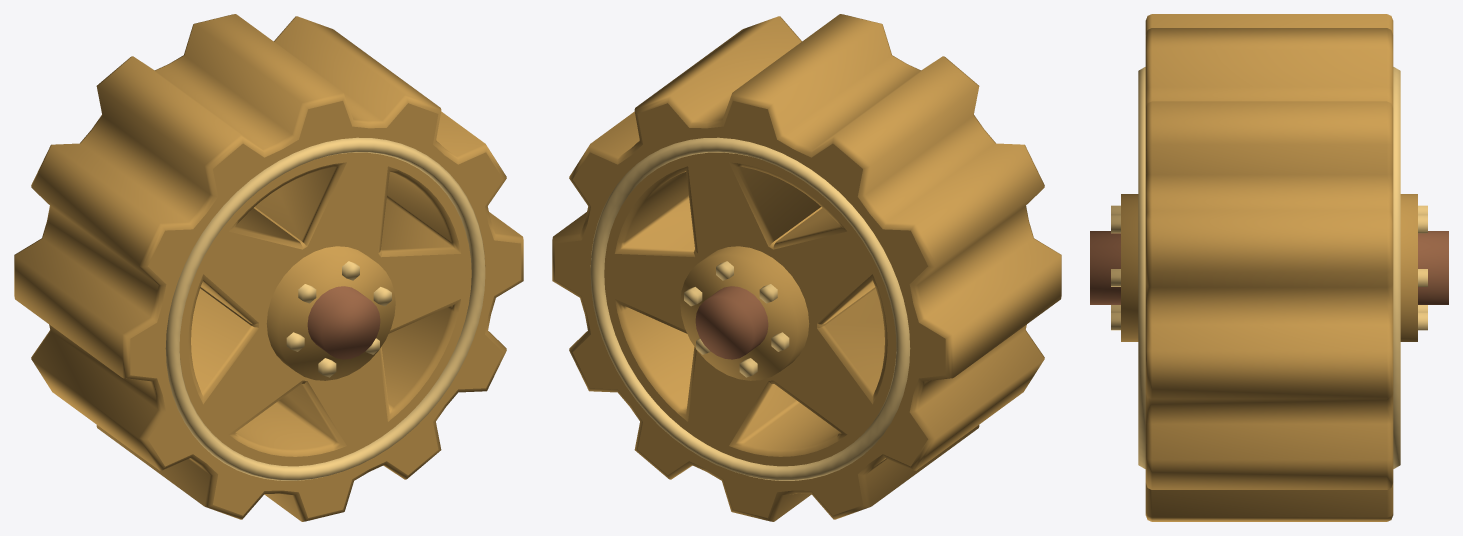
File: gear-12.glb
The picture shows the model from 3 angles, left to right: view 1: azimuth 30°, elevation 25°; view 2: azimuth 150°, elevation 25°; view 3: azimuth 270°, elevation 25°; orthographic projection. The views are drawn at different scales.
Visible parts, largest first — view 1: gear; view 2: gear; view 3: gear.
Part boxes in pixels (left/top/right/bottom): gear: left=14, top=14, right=523, bottom=521; gear: left=552, top=14, right=1061, bottom=521; gear: left=1090, top=14, right=1448, bottom=521.
Bounding box in the file's own units: 2.04 × 2.04 × 1.45.
